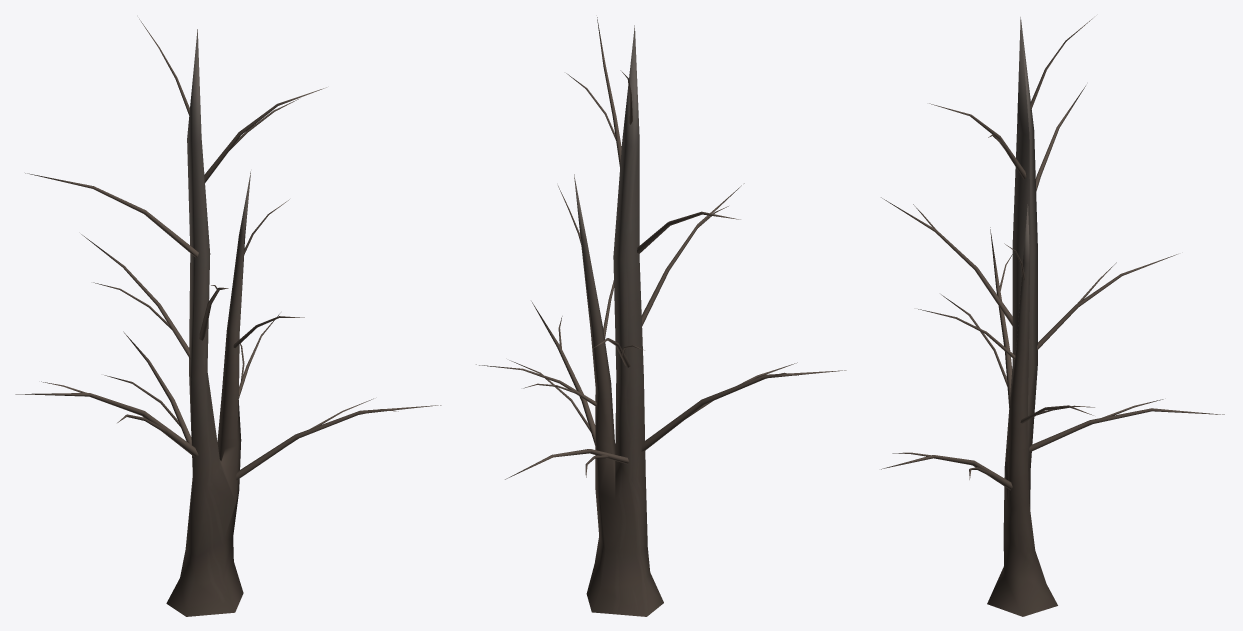
The model's file is DeadTree01.fbx.
3 views of the same model, side by side, from view 1: azimuth 30°, elevation 25°; view 2: azimuth 150°, elevation 25°; view 3: azimuth 270°, elevation 25° (orthographic).
Visible parts, largest first — view 1: tree_sean_01:Cylinder001; view 2: tree_sean_01:Cylinder001; view 3: tree_sean_01:Cylinder001.
Part boxes in pixels (x1,y1,x2,y2): tree_sean_01:Cylinder001: [15, 19, 441, 616]; tree_sean_01:Cylinder001: [476, 17, 846, 616]; tree_sean_01:Cylinder001: [881, 17, 1224, 616].
Bounding box in the file's own units: 924 × 1364 × 749.
